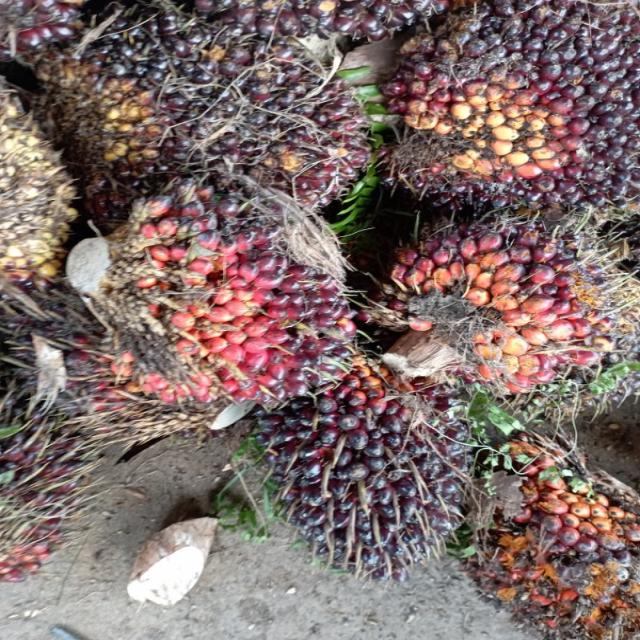fraksi 00: (67, 9, 346, 199), (397, 0, 640, 203), (265, 357, 465, 592)
fraksi 3: (76, 166, 354, 411), (382, 198, 616, 400), (446, 413, 640, 639)
